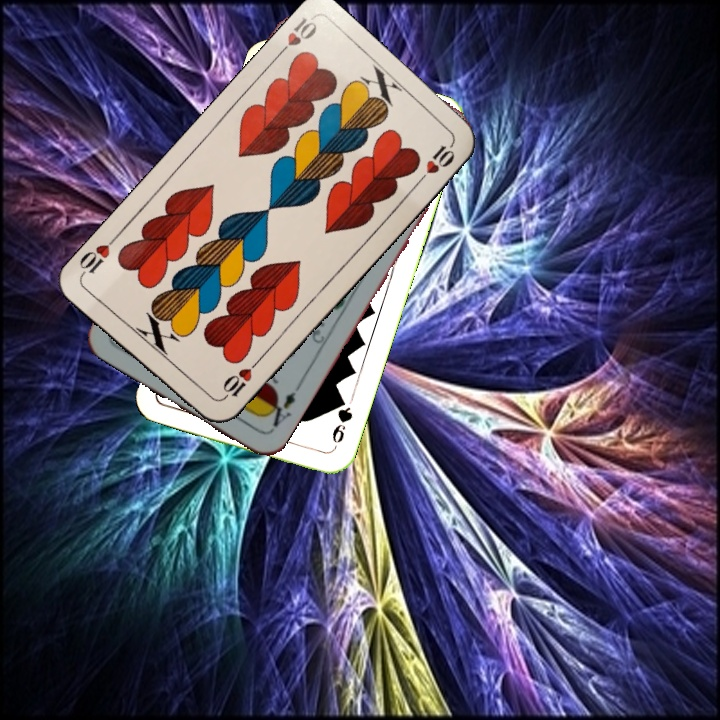EA: (261, 381, 304, 430)
G9: (328, 393, 355, 453)
H10: (271, 13, 320, 62), (217, 356, 262, 403)
